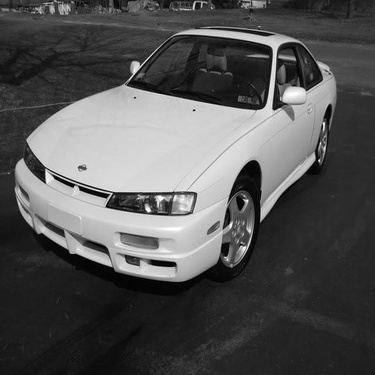car: (17, 21, 343, 293), (163, 2, 214, 15)
